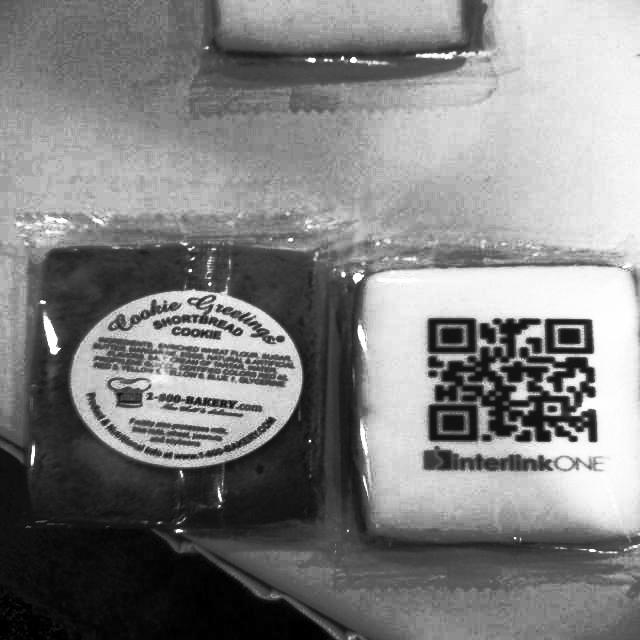qr_code: (429, 319, 596, 442)
